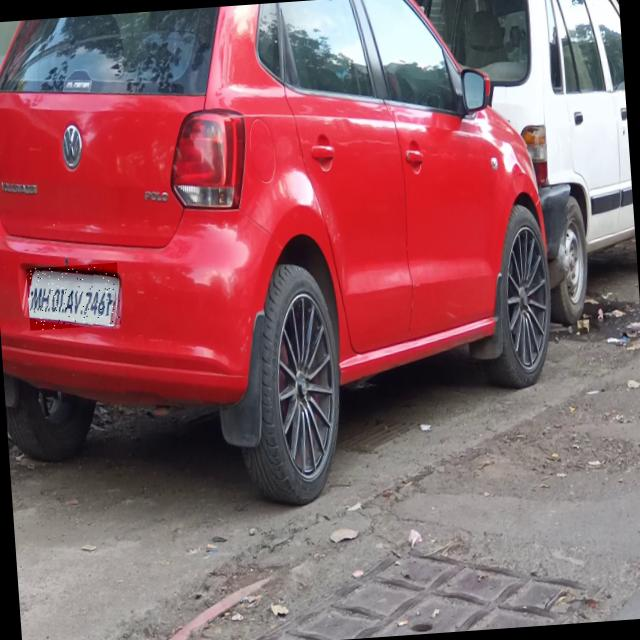Plate: (27, 264, 122, 332)
